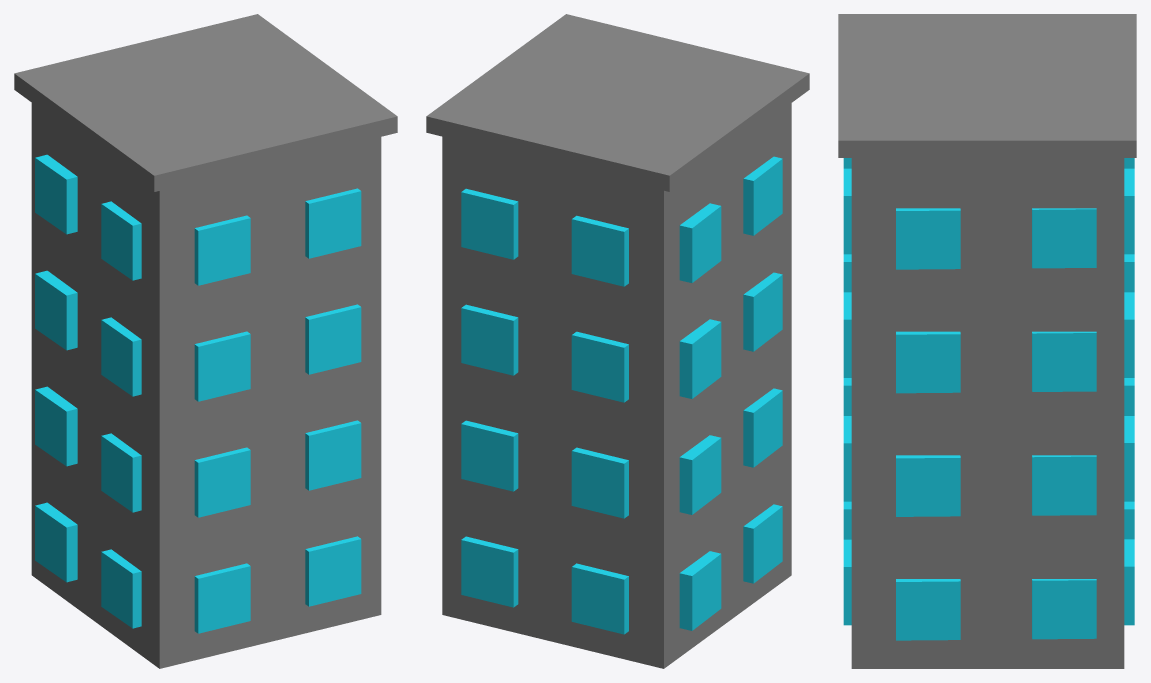
File: Building.glb
The picture shows the model from 3 angles, left to right: view 1: azimuth 30°, elevation 25°; view 2: azimuth 150°, elevation 25°; view 3: azimuth 270°, elevation 25°; orthographic projection. The views are drawn at different scales.
Visible parts, largest first — view 1: Building; view 2: Building; view 3: Building.
Boxes of the visible parts, x1,y1,x2,y2 form: Building: (14,14,397,668); Building: (426,14,809,668); Building: (838,14,1136,668).
Size of the model in its own units: 2.2 by 4.32 by 2.19.
